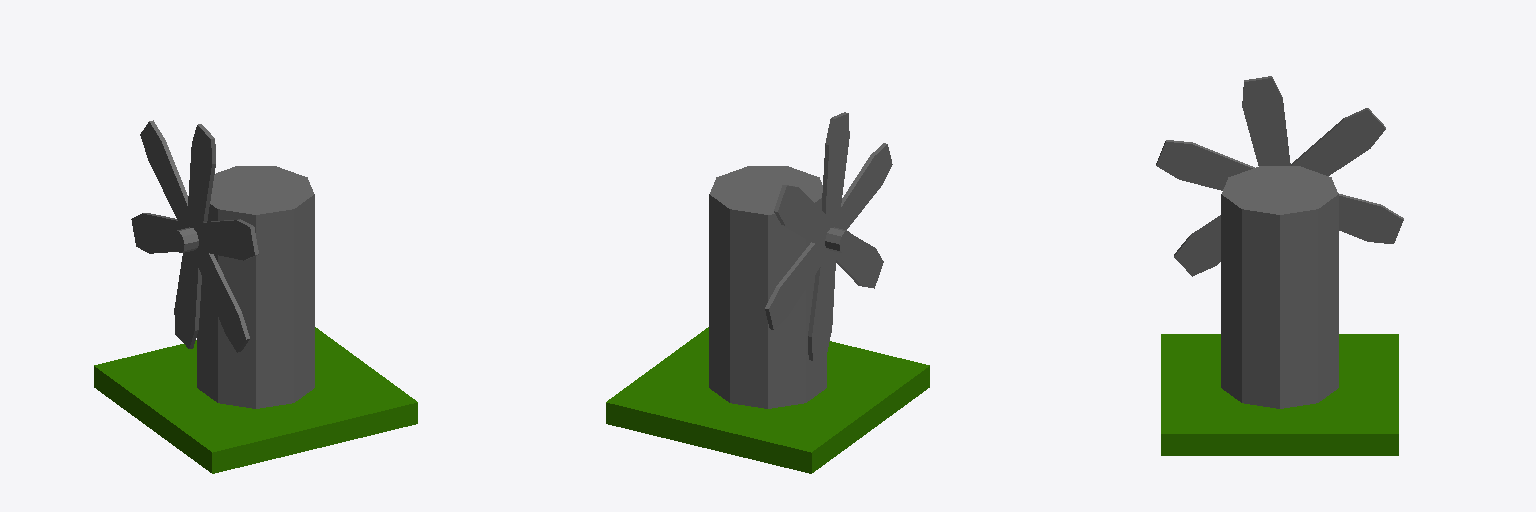
The model's file is Farm4.obj.
3 renders of one model, left to right at view 1: azimuth 30°, elevation 25°; view 2: azimuth 150°, elevation 25°; view 3: azimuth 270°, elevation 25°, orthographic.
Visible parts, largest first — view 1: Cylinder048, Tilebase112, Box725, Box723, Box726, Box724, Box722, Box721, Cylinder049; view 2: Tilebase112, Cylinder048, Box721, Box725, Box722, Box726, Box724, Box723, Cylinder049; view 3: Cylinder048, Tilebase112, Box725, Box726, Box724, Box721, Box723.
Boxes of the visible parts, <box> form: Cylinder048: <box>197,166,314,408</box>; Tilebase112: <box>94,327,417,473</box>; Box725: <box>187,124,215,236</box>; Box723: <box>192,239,249,352</box>; Box726: <box>140,120,194,227</box>; Box724: <box>195,219,258,260</box>; Box722: <box>174,249,201,348</box>; Box721: <box>131,213,187,253</box>; Cylinder049: <box>173,227,198,252</box>; Tilebase112: <box>606,327,929,473</box>; Cylinder048: <box>709,166,826,408</box>; Box721: <box>765,242,827,329</box>; Box725: <box>822,112,849,227</box>; Box722: <box>808,249,836,360</box>; Box726: <box>774,185,831,247</box>; Box724: <box>832,143,892,229</box>; Box723: <box>836,233,883,288</box>; Cylinder049: <box>825,227,850,252</box>; Cylinder048: <box>1221,166,1338,408</box>; Tilebase112: <box>1161,334,1398,455</box>; Box725: <box>1242,76,1290,165</box>; Box726: <box>1291,108,1385,175</box>; Box724: <box>1156,140,1254,190</box>; Box721: <box>1338,193,1403,243</box>; Box723: <box>1174,215,1220,276</box>.
Size of the model in its own units: 10 by 13.87 by 10.41.